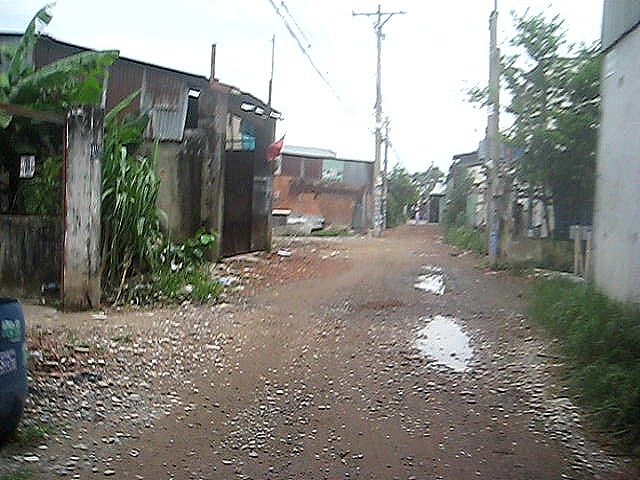hole: (391, 307, 489, 382), (411, 272, 449, 297), (411, 249, 441, 259), (419, 263, 447, 271)
